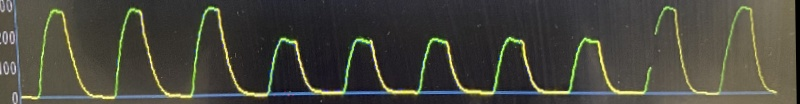normal_volume: (12, 3, 785, 104)
